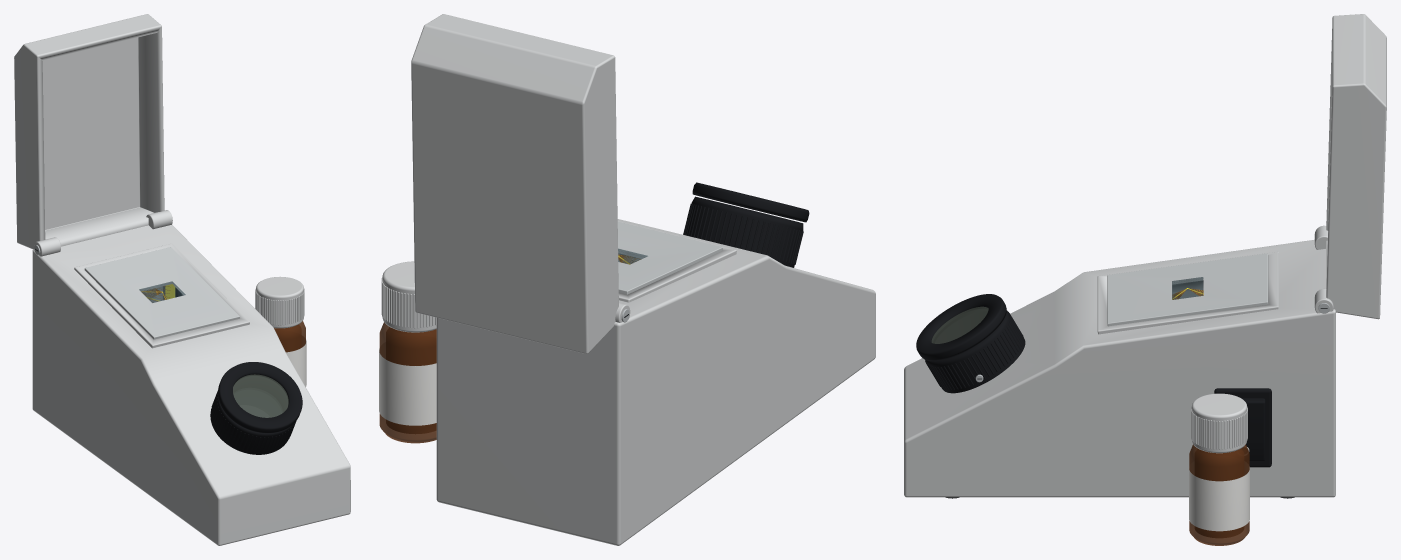
The picture shows the model from 3 angles, left to right: view 1: azimuth 30°, elevation 25°; view 2: azimuth 150°, elevation 25°; view 3: azimuth 270°, elevation 25°; orthographic projection. The views are drawn at different scales.
Visible parts, largest first — view 1: Refractometer_body, Refractometer_cover, Refractometer_metal_stage, Refractometer_polarizer, Refractometer_eyepiece, Refractometer_oil_bottle, Refractometer_test_prism; view 2: Refractometer_body, Refractometer_cover, Refractometer_oil_bottle, Refractometer_metal_stage, Refractometer_eyepiece, Refractometer_polarizer; view 3: Refractometer_body, Refractometer_cover, Refractometer_metal_stage, Refractometer_oil_bottle, Refractometer_eyepiece, Refractometer_polarizer, Refractometer_power_switch, Refractometer_test_prism.
Boxes of the visible parts, box(x1,y1,x2,y2) form: Refractometer_body: box(32, 225, 350, 545); Refractometer_cover: box(14, 14, 172, 256); Refractometer_metal_stage: box(74, 243, 249, 348); Refractometer_polarizer: box(218, 362, 302, 433); Refractometer_eyepiece: box(210, 378, 296, 454); Refractometer_oil_bottle: box(255, 276, 306, 386); Refractometer_test_prism: box(139, 281, 185, 302); Refractometer_body: box(436, 219, 875, 545); Refractometer_cover: box(411, 14, 630, 353); Refractometer_oil_bottle: box(379, 261, 436, 443); Refractometer_metal_stage: box(617, 221, 736, 302); Refractometer_eyepiece: box(683, 196, 803, 267); Refractometer_polarizer: box(692, 182, 809, 222); Refractometer_body: box(904, 239, 1335, 498); Refractometer_cover: box(1314, 14, 1386, 319); Refractometer_metal_stage: box(1097, 251, 1278, 334); Refractometer_oil_bottle: box(1189, 393, 1249, 545); Refractometer_eyepiece: box(925, 310, 1025, 393); Refractometer_polarizer: box(916, 294, 1006, 361); Refractometer_power_switch: box(1241, 398, 1265, 460); Refractometer_test_prism: box(1172, 277, 1203, 299).
Bounding box in the file's own units: 0.1128 × 0.1767 × 0.1845.
